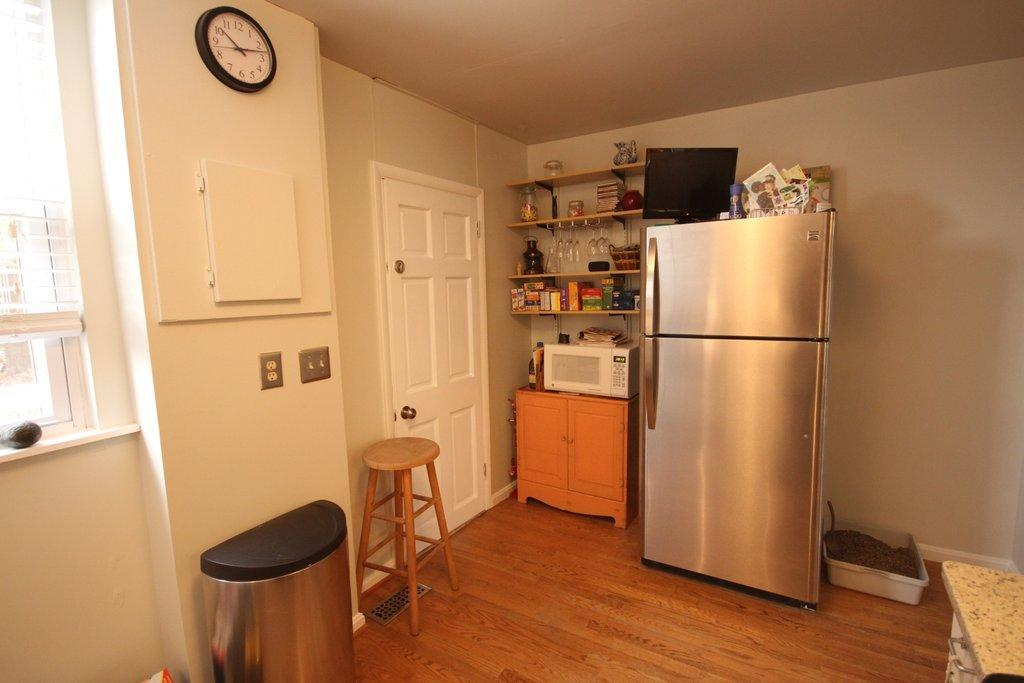door: (386, 188, 480, 519)
handle: (402, 402, 422, 427)
